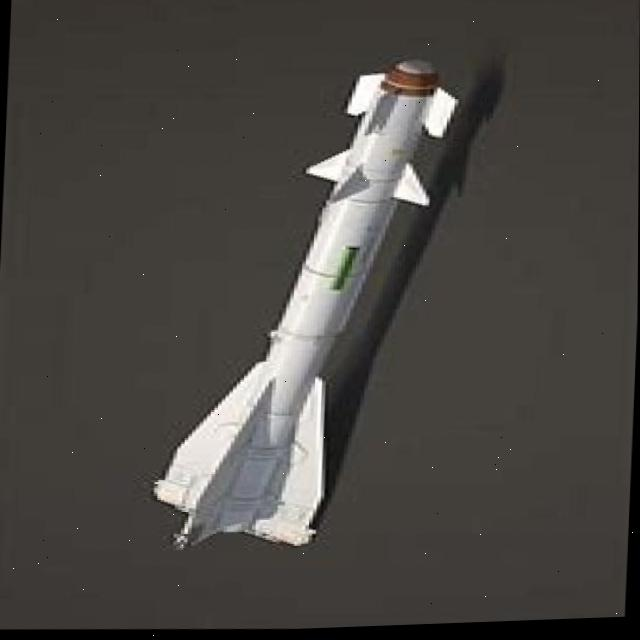missile: (151, 47, 484, 565)
